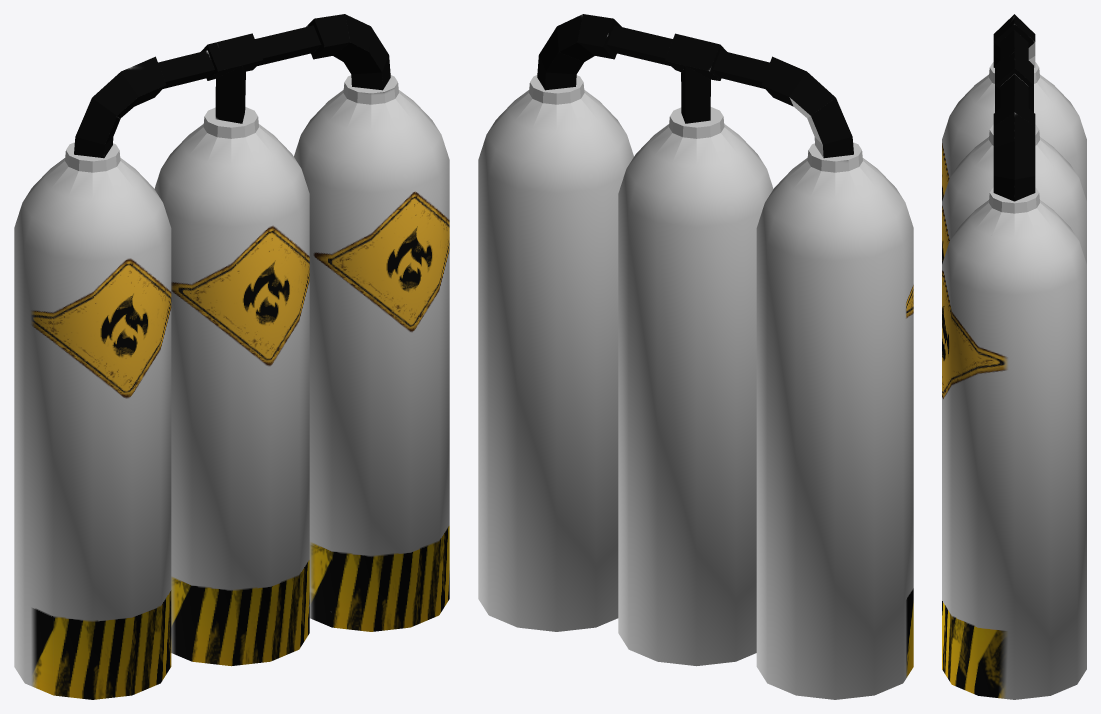
Rendered from 3cilinders_prop.glb.
3 renders of one model, left to right at view 1: azimuth 30°, elevation 25°; view 2: azimuth 150°, elevation 25°; view 3: azimuth 270°, elevation 25°, orthographic. The views are drawn at different scales.
Parts seen in each view (by area): view 1: cylindertank_trio; view 2: cylindertank_trio; view 3: cylindertank_trio.
Part boxes in pixels (bbox=[...]): cylindertank_trio: bbox=[14, 14, 449, 699]; cylindertank_trio: bbox=[478, 14, 913, 699]; cylindertank_trio: bbox=[942, 14, 1086, 699].
Bounding box in the file's own units: 2.74 × 3.76 × 0.8993.
1 material, 1 textured.
